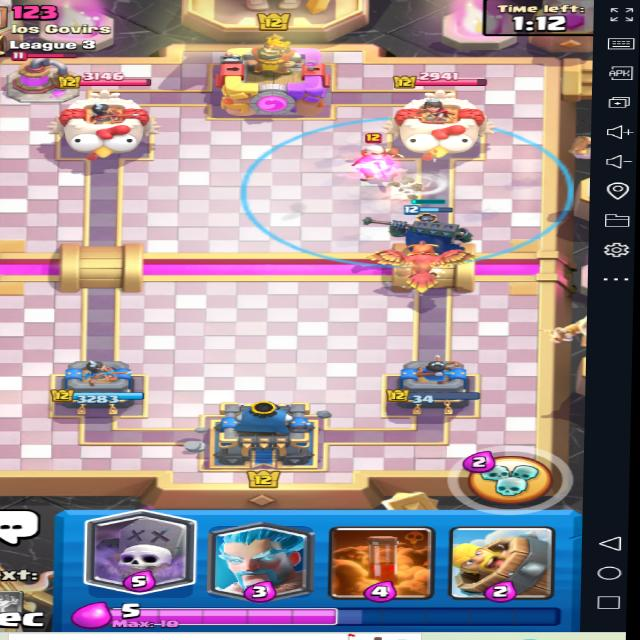elixir-collector: (0, 51, 84, 101)
magic-archer: (346, 130, 408, 188)
